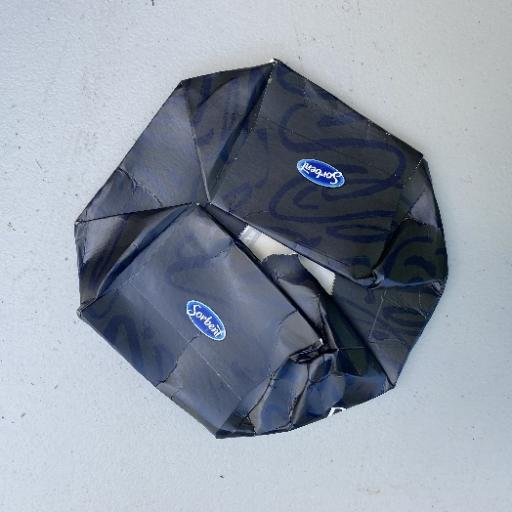Cardboard: (72, 56, 452, 440)
